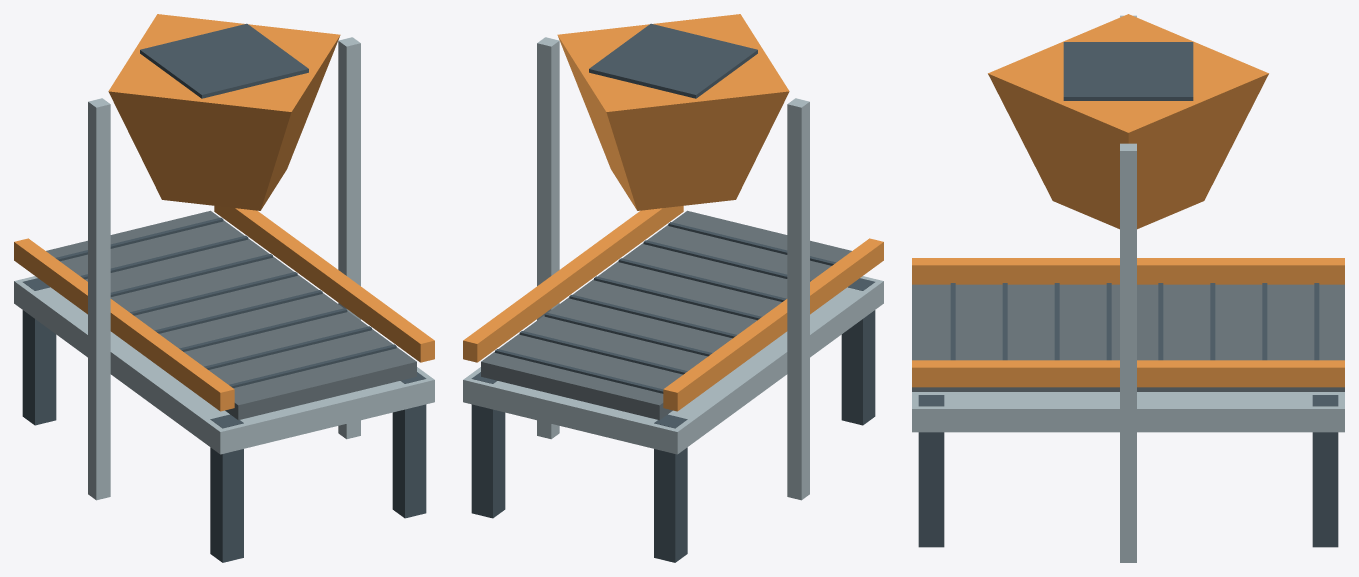
The model's file is loading-hopper-conveyor.glb.
The picture shows the model from 3 angles, left to right: view 1: azimuth 30°, elevation 25°; view 2: azimuth 150°, elevation 25°; view 3: azimuth 270°, elevation 25°; orthographic projection. The views are drawn at different scales.
Visible parts, largest first — view 1: orange, rubber, steel, dark; view 2: orange, rubber, steel, dark; view 3: orange, rubber, steel, dark.
Part boxes in pixels (x1,y1,x2,y2): orange: (14,14,434,411); rubber: (46,210,416,420); steel: (14,37,434,500); dark: (22,23,426,562); orange: (463,14,883,411); rubber: (481,210,851,420); steel: (463,37,883,500); dark: (471,23,875,562); orange: (912,14,1344,387); rubber: (912,284,1344,391); steel: (912,15,1344,562); dark: (918,42,1338,547).
Size of the model in its own units: 1.48 by 2.17 by 2.
